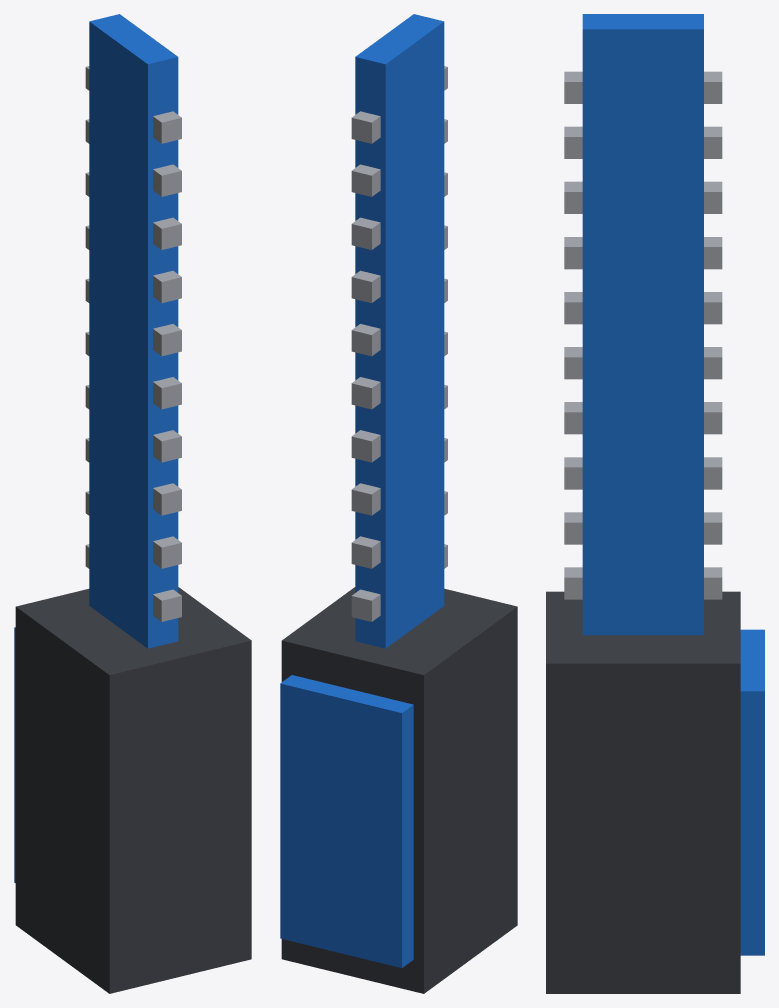
Rendered from cobalt_chainsaw.glb.
The picture shows the model from 3 angles, left to right: view 1: azimuth 30°, elevation 25°; view 2: azimuth 150°, elevation 25°; view 3: azimuth 270°, elevation 25°; orthographic projection. The views are drawn at different scales.
Parts seen in each view (by area): view 1: cobalt_chainsaw_v0; view 2: cobalt_chainsaw_v0; view 3: cobalt_chainsaw_v0.
Part boxes in pixels (box(x1,y1,x2,y2)): cobalt_chainsaw_v0: box(14, 14, 251, 993); cobalt_chainsaw_v0: box(280, 14, 517, 993); cobalt_chainsaw_v0: box(546, 14, 764, 993).
Size of the model in its own units: 0.14 by 0.85 by 0.18.
